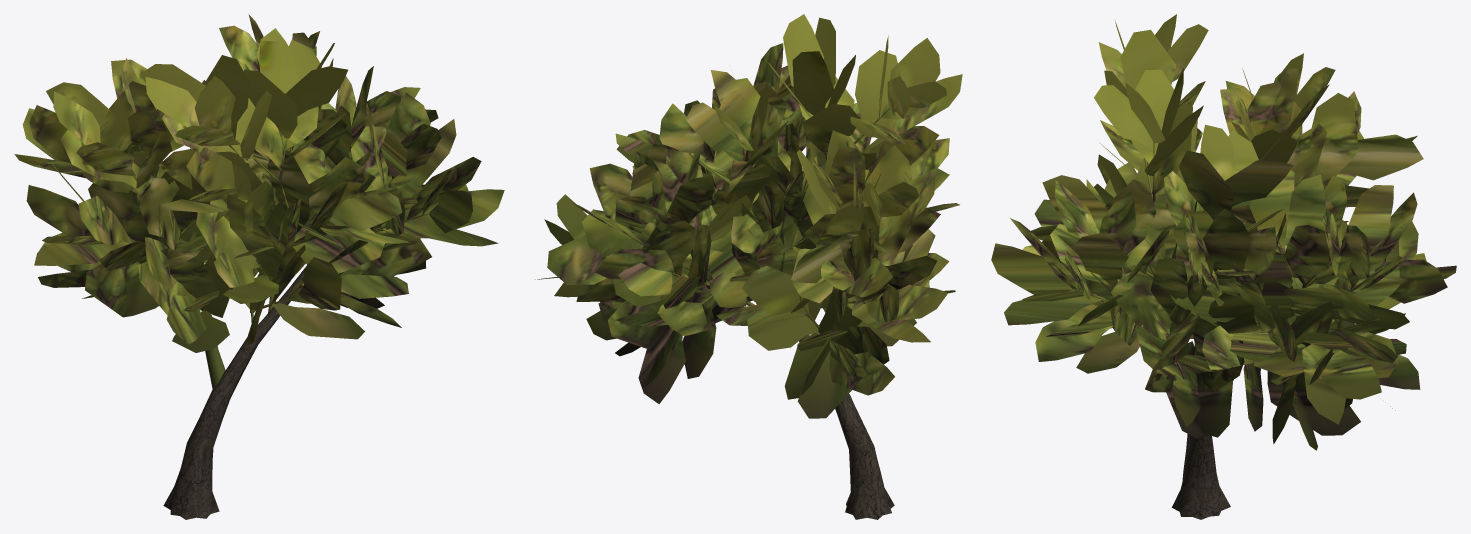
File: Front Tree.fbx
The picture shows the model from 3 angles, left to right: view 1: azimuth 30°, elevation 25°; view 2: azimuth 150°, elevation 25°; view 3: azimuth 270°, elevation 25°; orthographic projection. The views are drawn at different scales.
Visible parts, largest first — view 1: lead, wood; view 2: lead, wood; view 3: lead, wood.
Boxes of the visible parts, x1,y1,x2,y2 form: lead: (14, 14, 504, 388); wood: (163, 264, 307, 519); lead: (535, 14, 962, 418); wood: (799, 335, 894, 519); lead: (991, 14, 1456, 450); wood: (1172, 343, 1230, 519).
Size of the model in its own units: 9.79 by 11.11 by 9.73.
